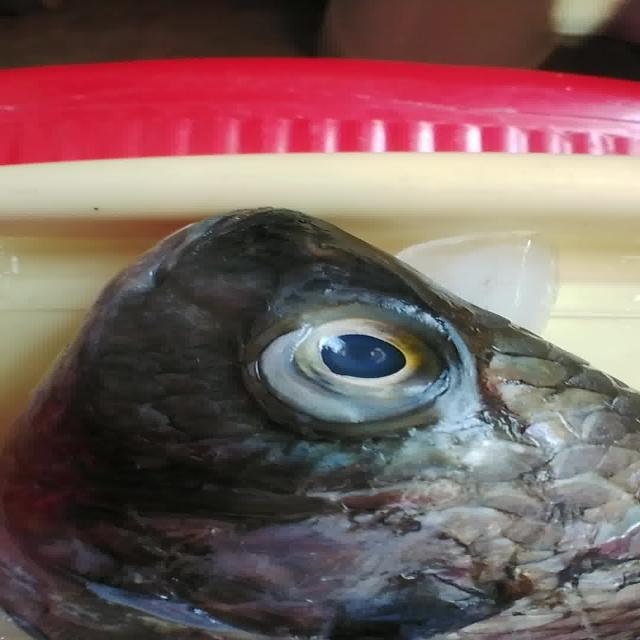Fresh: (228, 296, 492, 434)
